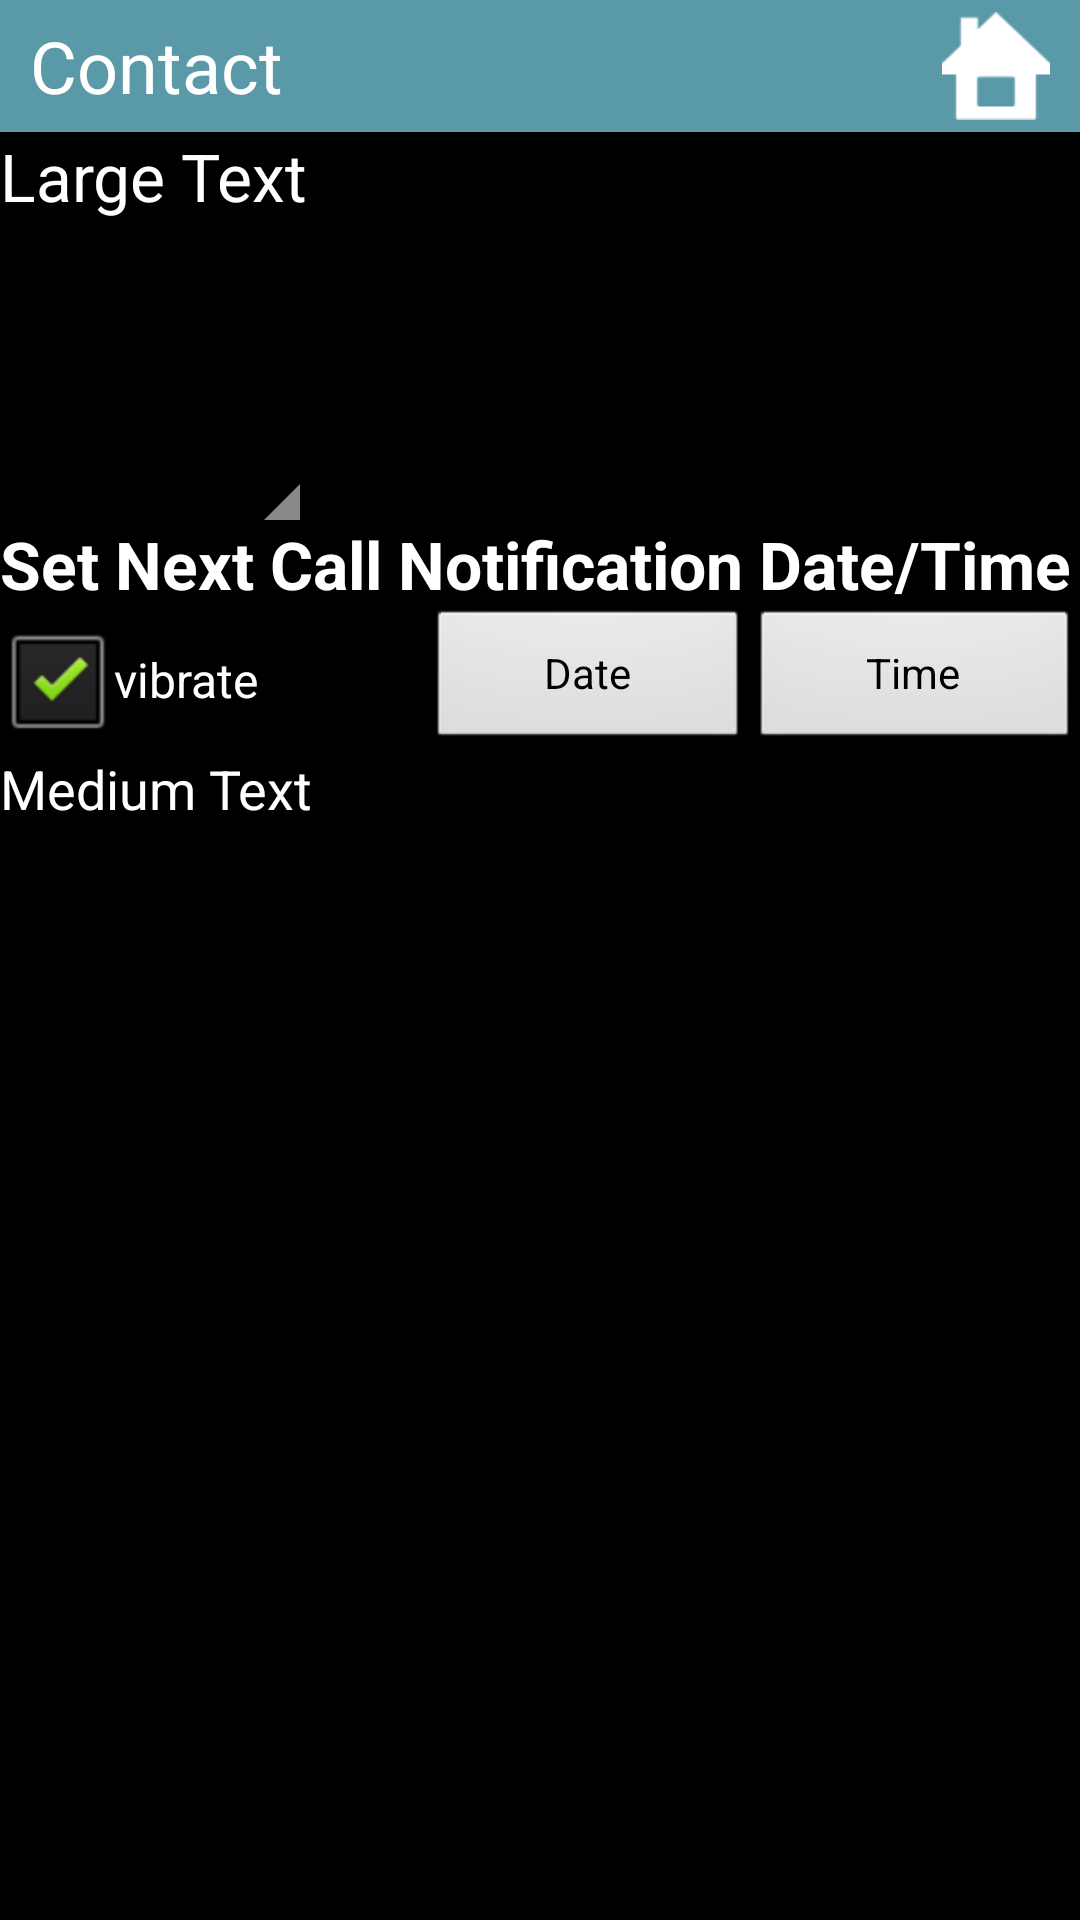

Screen size 1080×1920. Icon name, then its center in pixels as point (x, y):
home: point (996, 66)
